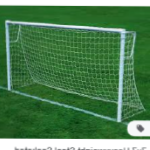goals: (3, 18, 145, 122)
